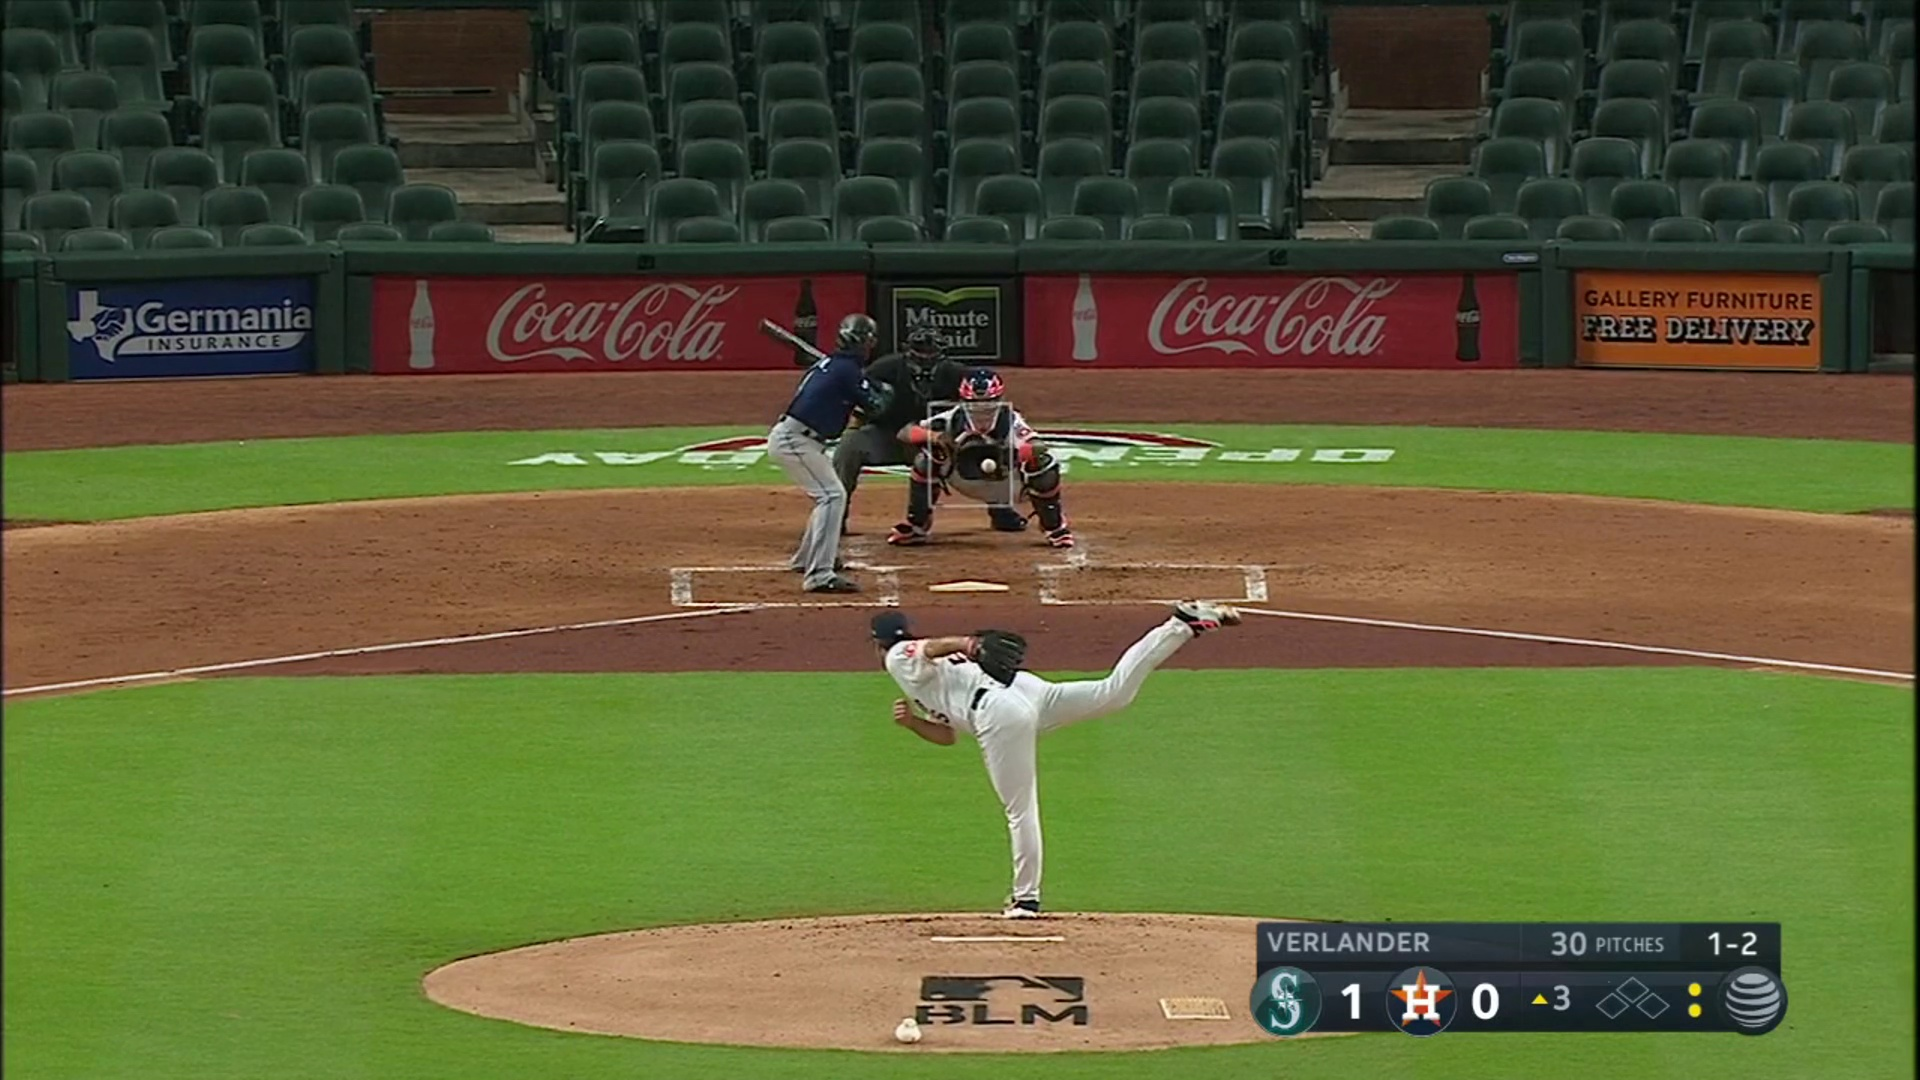baseball: (980, 458, 996, 472)
